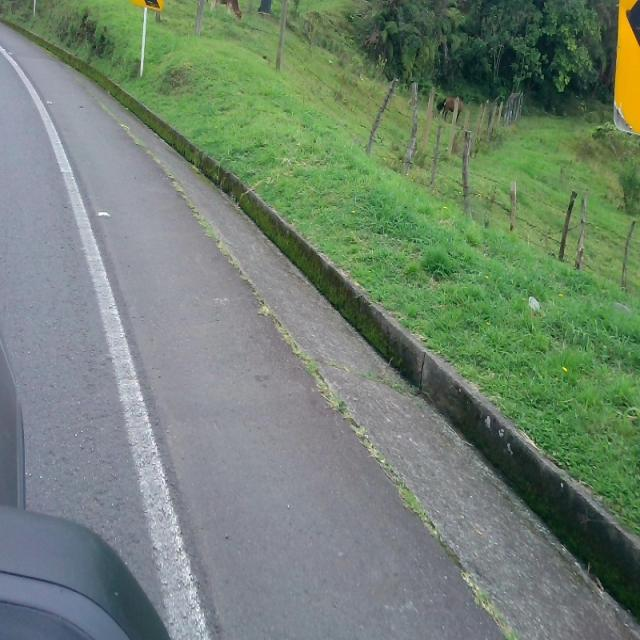DITCH: (2, 21, 638, 638), (7, 91, 638, 638)
